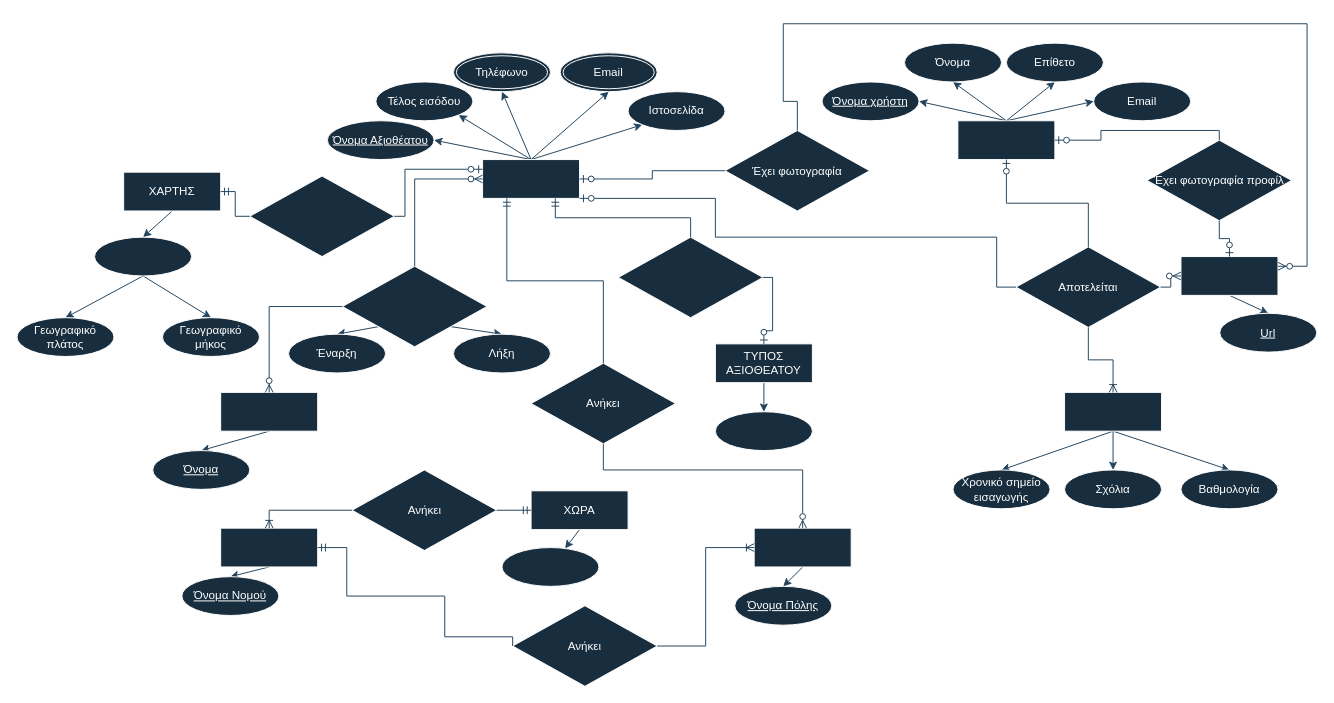
The diagram is 1334 pixels wide and 703 high, and some of its shapes have lost their labels. The shapes that lost their labels are listed below. From the top down, each one's centre as x and y in pixels, then its label:
At point (1006, 140): "ΧΡΗΣΤΗΣ".
At point (531, 178): "ΑΞΙΟΘΕΑΤΟ".
At point (321, 216): "Έχει".
At point (143, 256): "Συντεταγμένες".
At point (1229, 275): "ΦΩΤΟΓΡΑΦΙΑ".
At point (690, 277): "Είναι τύπου".
At point (414, 306): "Λειτουργεί".
At point (269, 411): "ΗΜΕΡΑ".
At point (763, 431): "Όνομα Τύπου".
At point (1113, 411): "ΚΡΙΤΙΚΗ".
At point (269, 547): "ΝΟΜΟΣ".
At point (550, 566): "Όνομα Χώρας".
At point (802, 547): "ΠΟΛΗ".
